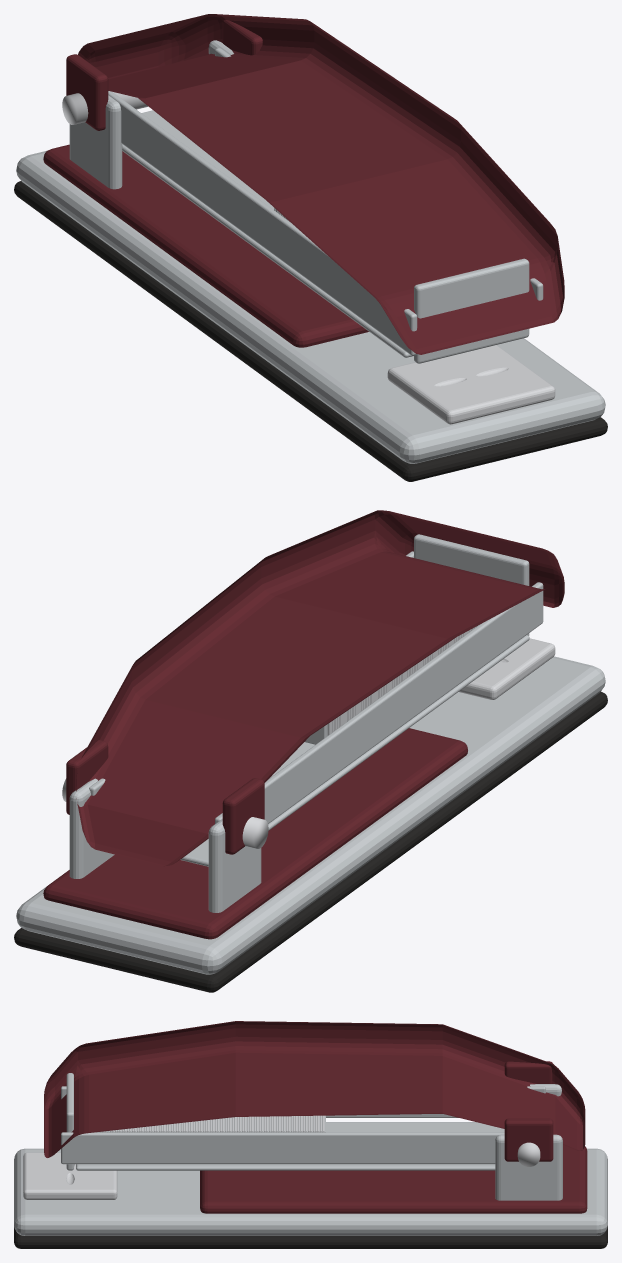
The model's file is office_stapler.glb.
The picture shows the model from 3 angles, top to bottom: view 1: azimuth 30°, elevation 25°; view 2: azimuth 150°, elevation 25°; view 3: azimuth 270°, elevation 25°; orthographic projection. The views are drawn at different scales.
Parts seen in each view (by area): view 1: Contoured enamel pressure arm, Stamped steel base, Base painted insert, Magazine folded side rail, Molded rubber sole, Stainless clinching anvil, Front driver face, Magazine bottom, Rear hinge support, Pressure arm hinge ear, Pressure arm hinge ear.001, Transverse steel hinge axle; view 2: Contoured enamel pressure arm, Stamped steel base, Base painted insert, Magazine folded side rail, Molded rubber sole, Rear hinge support, Front driver face, Magazine bottom, Stainless clinching anvil, Pressure arm hinge ear, Rear hinge support.001, Pressure arm hinge ear.001 (+1 smaller); view 3: Contoured enamel pressure arm, Stamped steel base, Base painted insert, Magazine folded side rail.001, Molded rubber sole, Magazine bottom, Stainless clinching anvil, Rear hinge support.001, Pressure arm hinge ear.001, Staple support rail, Pressure arm hinge ear, Magazine folded side rail (+2 smaller).
Boxes of the visible parts, bbox=[...] form: Contoured enamel pressure arm: bbox=[78, 14, 564, 354]; Stamped steel base: bbox=[16, 150, 605, 463]; Base painted insert: bbox=[43, 144, 368, 347]; Magazine folded side rail: bbox=[108, 91, 417, 355]; Molded rubber sole: bbox=[14, 181, 607, 481]; Stainless clinching anvil: bbox=[387, 345, 555, 424]; Front driver face: bbox=[414, 258, 529, 363]; Magazine bottom: bbox=[122, 110, 413, 357]; Rear hinge support: bbox=[69, 95, 122, 189]; Pressure arm hinge ear: bbox=[66, 54, 108, 130]; Pressure arm hinge ear.001: bbox=[222, 19, 262, 55]; Transverse steel hinge axle: bbox=[62, 92, 148, 124]; Contoured enamel pressure arm: bbox=[76, 510, 564, 866]; Stamped steel base: bbox=[16, 656, 605, 974]; Base painted insert: bbox=[43, 728, 467, 939]; Magazine folded side rail: bbox=[215, 582, 543, 823]; Molded rubber sole: bbox=[14, 691, 607, 992]; Rear hinge support: bbox=[208, 819, 261, 912]; Front driver face: bbox=[414, 534, 529, 635]; Magazine bottom: bbox=[180, 635, 529, 866]; Stainless clinching anvil: bbox=[459, 638, 555, 699]; Pressure arm hinge ear: bbox=[222, 778, 264, 854]; Rear hinge support.001: bbox=[69, 778, 114, 878]; Pressure arm hinge ear.001: bbox=[66, 740, 108, 814]; Contoured enamel pressure arm: bbox=[44, 1021, 585, 1157]; Stamped steel base: bbox=[14, 1148, 607, 1235]; Base painted insert: bbox=[200, 1145, 587, 1213]; Magazine folded side rail.001: bbox=[61, 1132, 504, 1164]; Molded rubber sole: bbox=[14, 1226, 607, 1248]; Magazine bottom: bbox=[76, 1122, 504, 1170]; Stainless clinching anvil: bbox=[23, 1152, 117, 1199]; Rear hinge support.001: bbox=[495, 1134, 562, 1200]; Pressure arm hinge ear.001: bbox=[504, 1118, 553, 1161]; Staple support rail: bbox=[97, 1115, 325, 1132]; Pressure arm hinge ear: bbox=[504, 1061, 552, 1083]; Magazine folded side rail: bbox=[61, 1086, 545, 1117].
Size of the model in its own units: 0.047 by 0.047 by 0.158.
